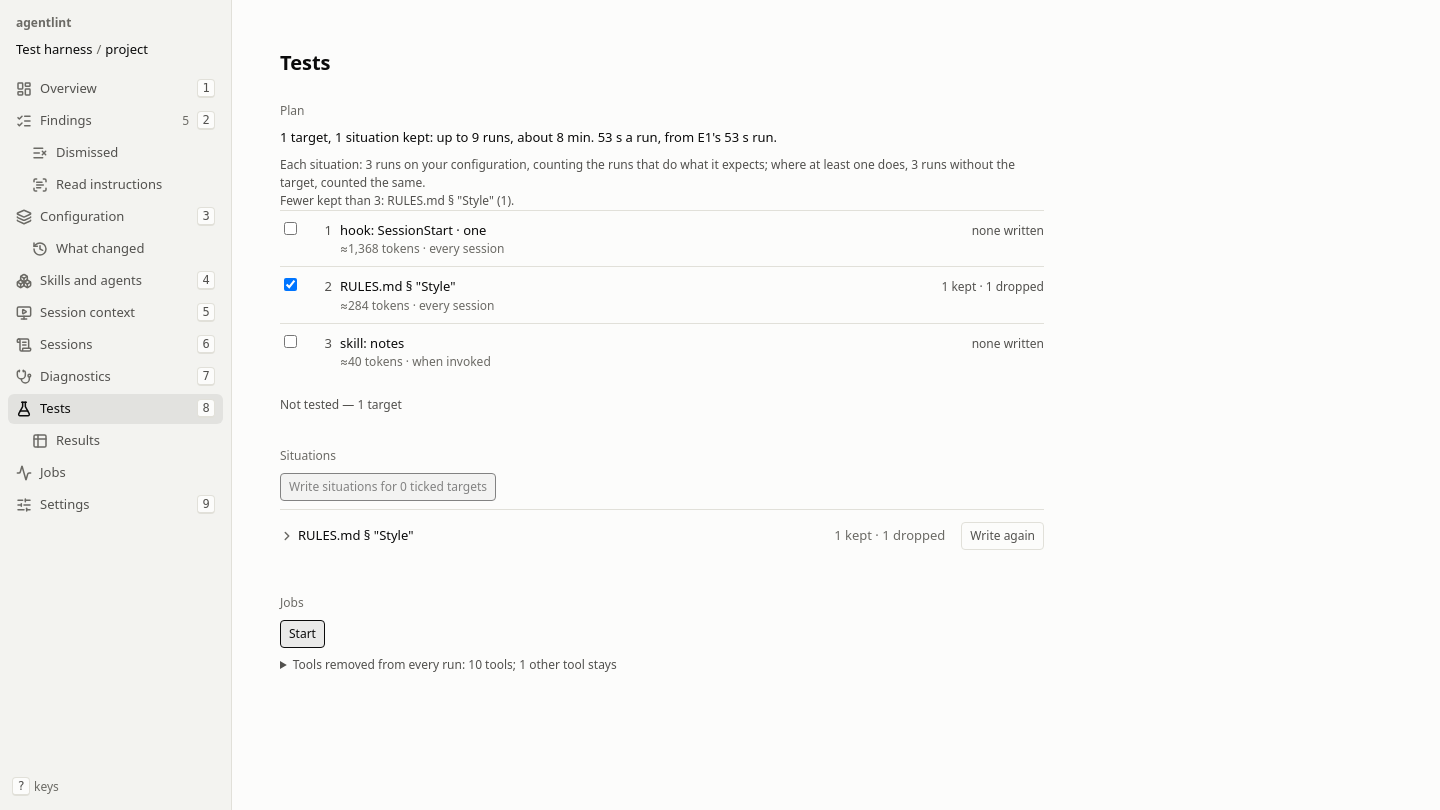
Test: the plan › changes the total as you tick, sending the ticks to be kept, and says why Start can't run them
This screenshot has width=1440, height=810.
Expected: the button "Start" is enabled, [280,620,325,648]
Click the checkbox labelled "hook: SessionStart · one".
click(290, 228)  # box [284,222,297,234]
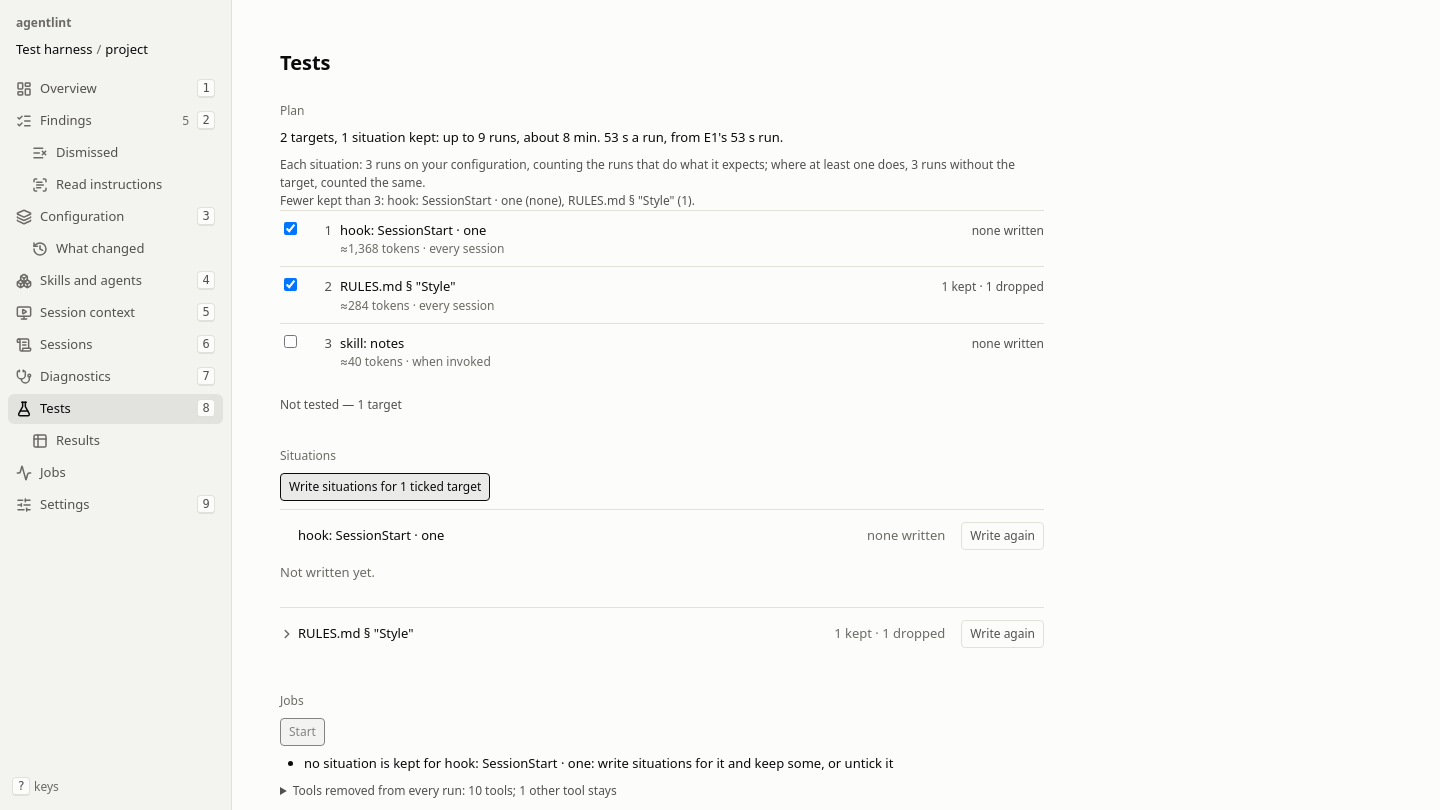
Result: the message named "Test size" shows "2 targets, 1 situation kept: up to 9 runs, about 8 min." at [280,128,600,146]
Result: the element "Plan" shows "Fewer kept than 3: hook: SessionStart · one (none), RULES.md § \"Style\" (1)." at [280,192,695,208]
Result: the button "Start" is disabled at [280,718,325,746]
Click the checkbox labelled "hook: SessionStart · one".
click(290, 228)  # box [284,222,297,234]
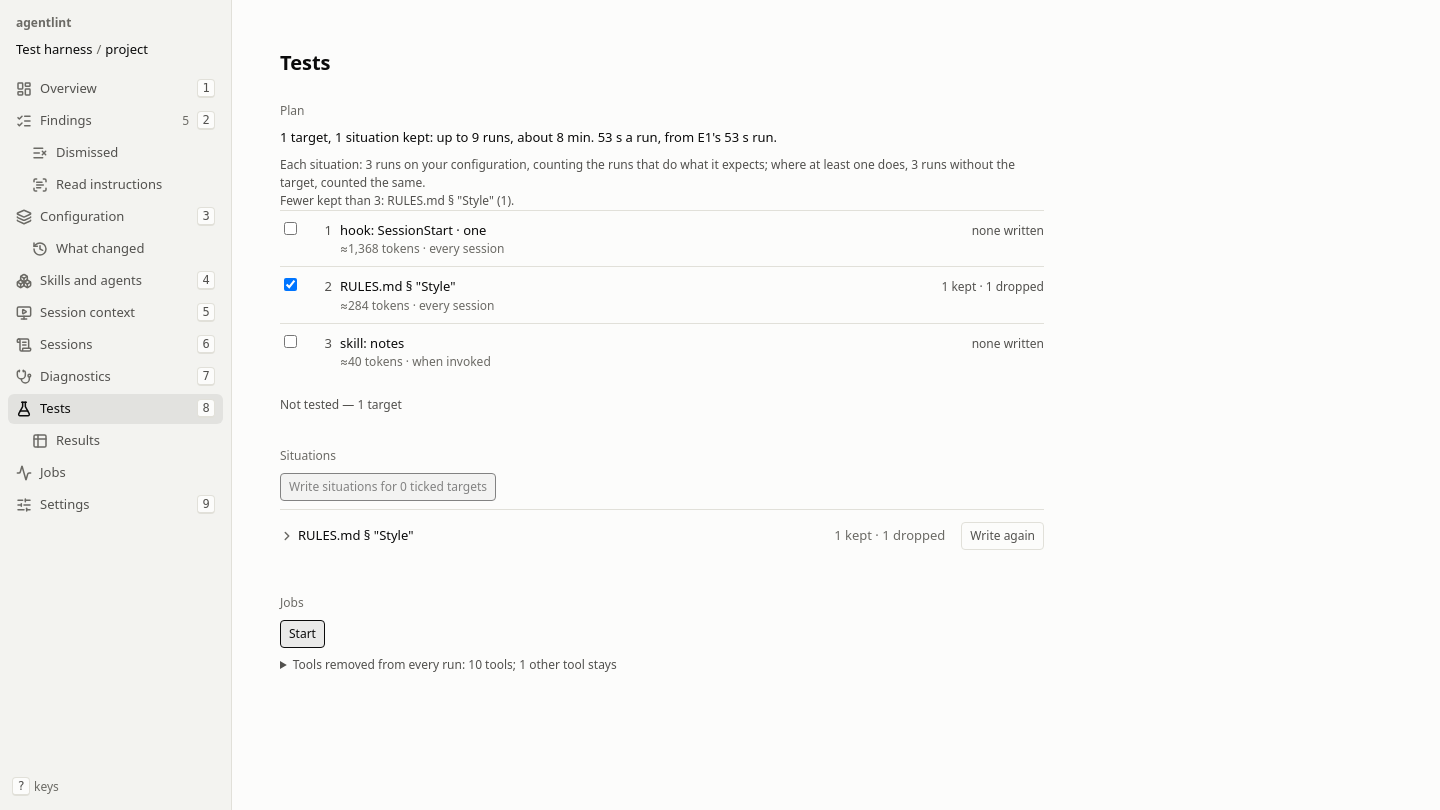
Click the checkbox labelled "RULES.md § \"Style\"".
click(290, 284)  # box [284,278,297,291]
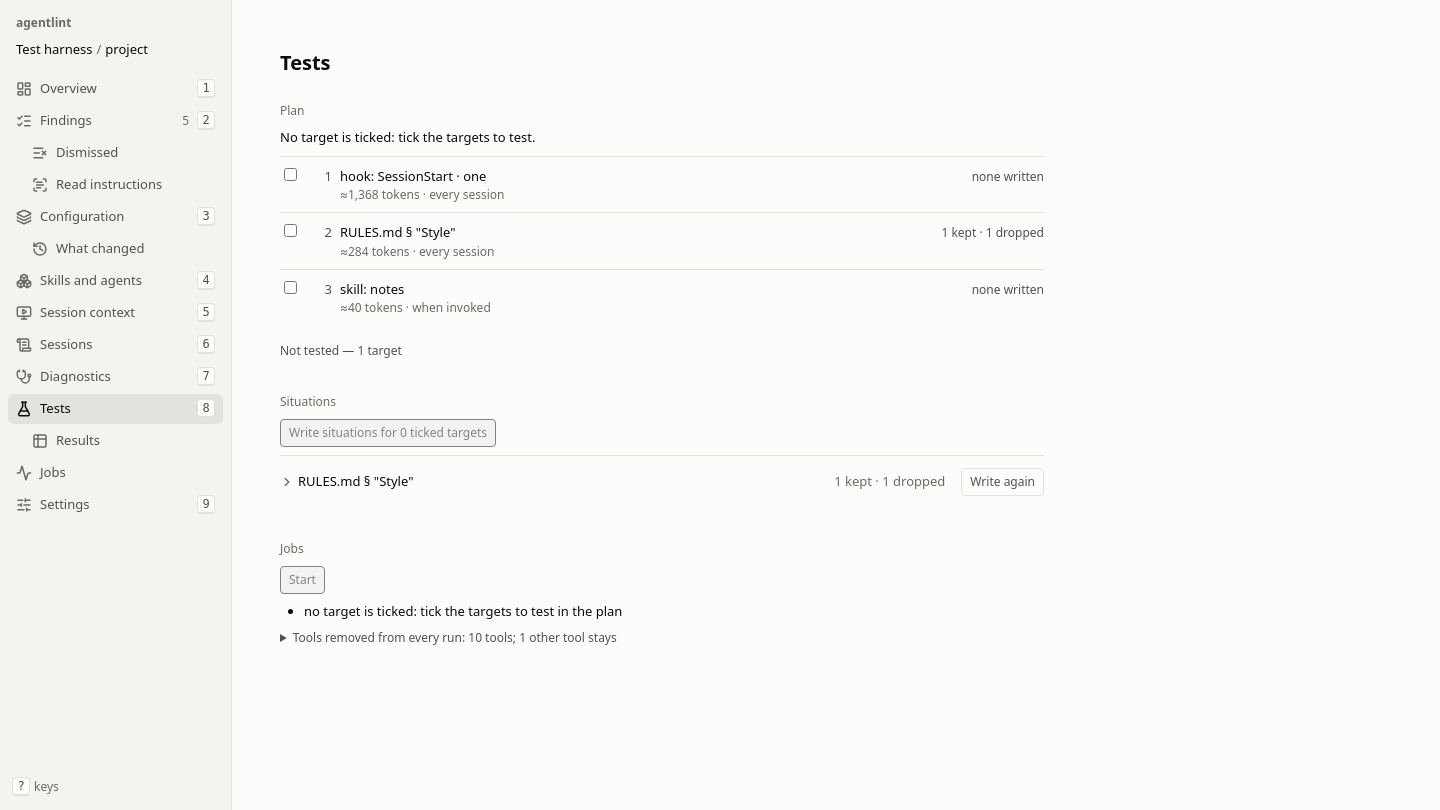
Result: the message named "Test size" reads "No target is ticked: tick the targets to test." at [280,128,535,146]
Result: the button "Start" is disabled at [280,566,325,594]
Result: the list item "no target is ticked: tick the targets to test in the plan" is shown at [304,602,622,620]
